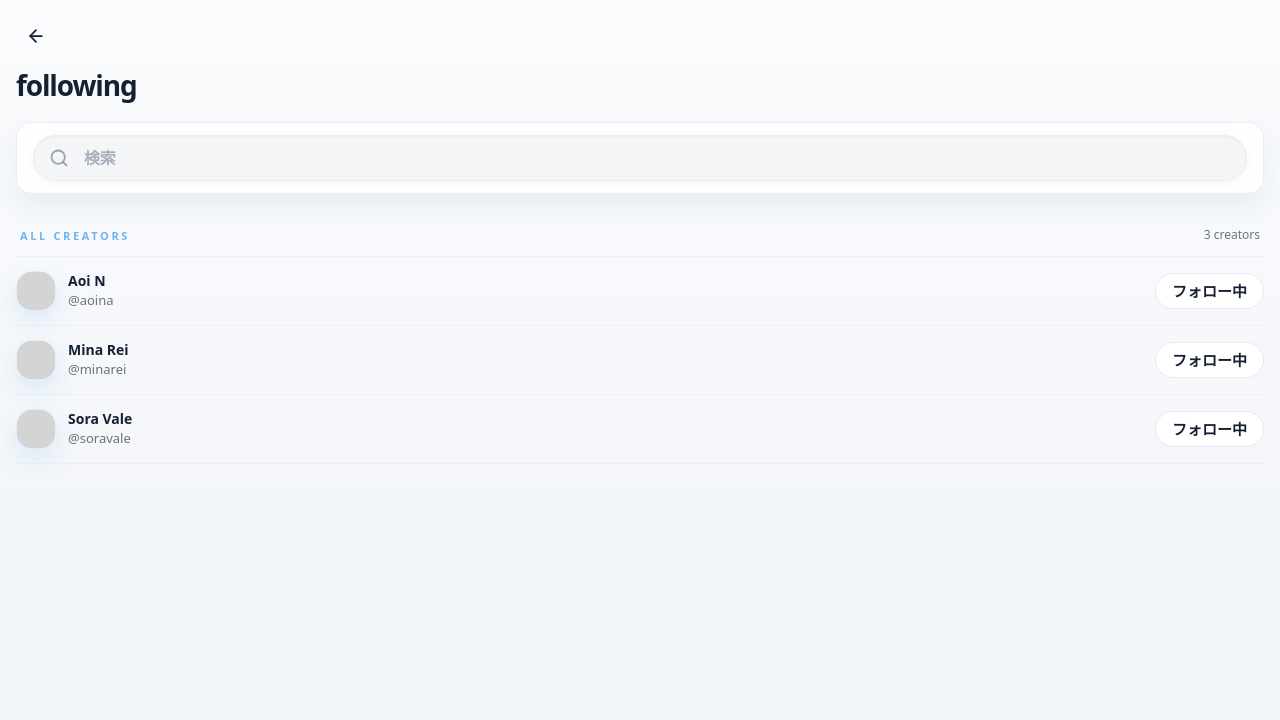
Test: FollowingShell › shows a recoverable row error when unfollow fails
The image size is (1280, 720).
Click the button "フォロー中" in the row of "@aoina" at point(1210, 291), box [1155, 273, 1264, 309]
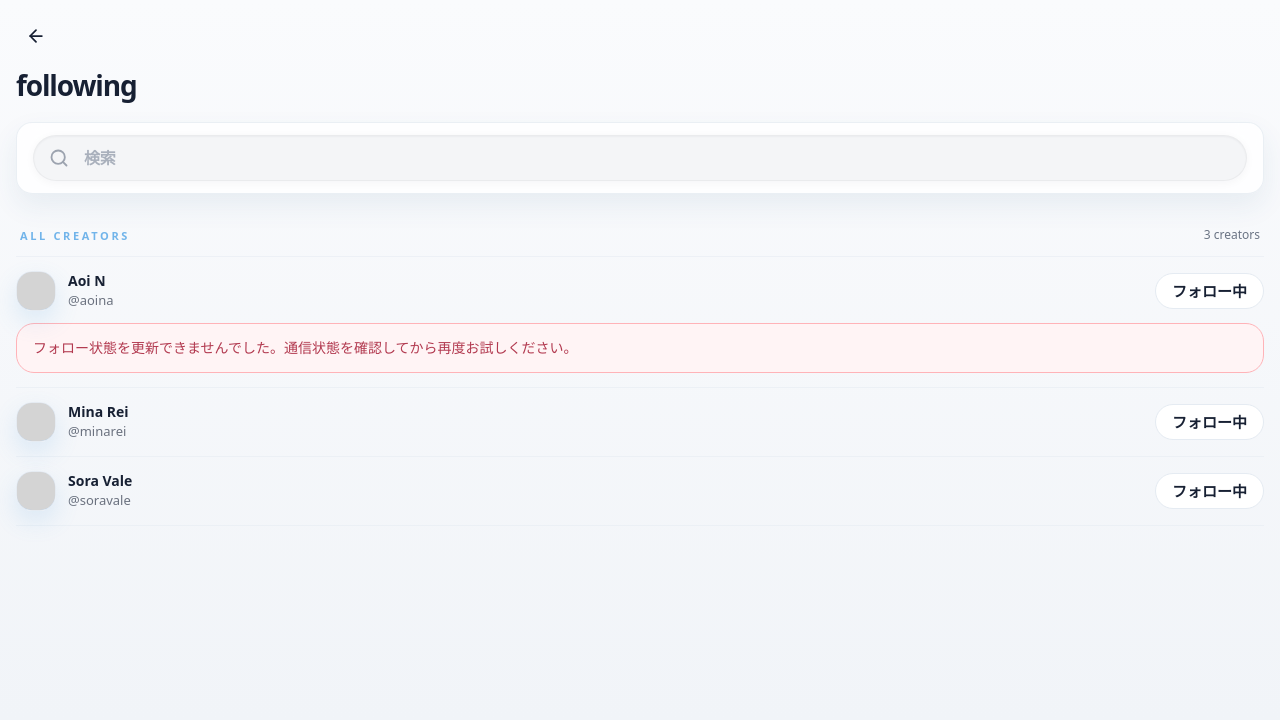
Expected: the text "3 creators" is shown, [1204, 226, 1260, 244]
Expected: the message reads "フォロー状態を更新できませんでした。通信状態を確認してから再度お試しください。", [33, 338, 578, 357]
